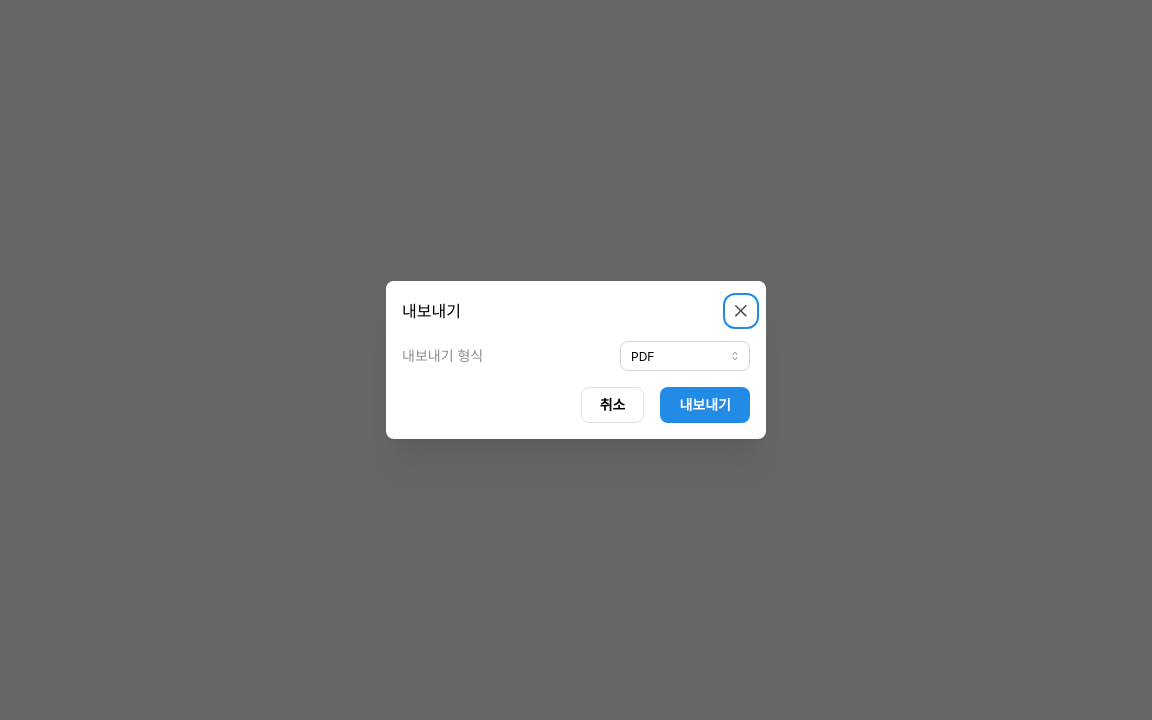
Test: ExportModal › 실패하면 창을 닫지 않고 이유를 보여준다
Click the button "내보내기" at [705, 405], box [660,387,750,423]
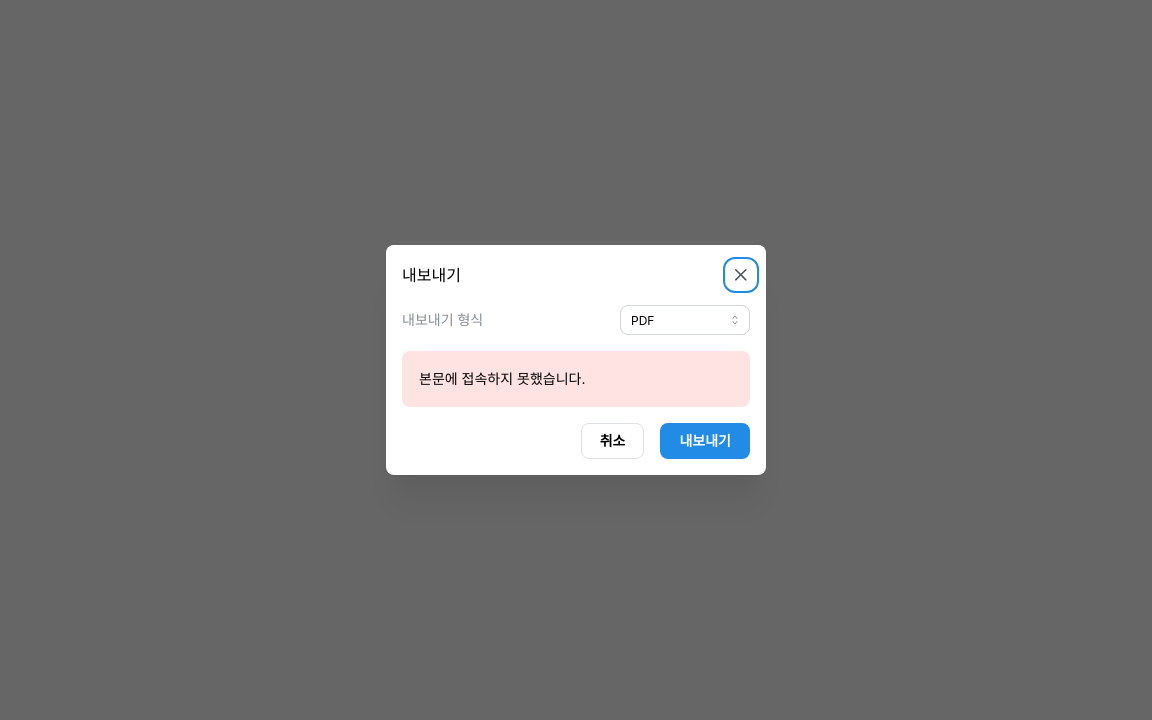
Result: the text "본문에 접속하지 못했습니다." is shown at [419,370,586,387]
